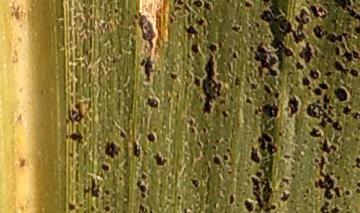tarspot: (259, 3, 310, 59), (200, 53, 222, 115), (313, 154, 336, 201), (252, 40, 279, 77), (249, 175, 274, 213), (137, 9, 155, 52), (297, 40, 319, 66), (332, 1, 360, 21), (65, 123, 86, 146), (294, 7, 312, 32), (139, 55, 155, 83), (68, 102, 85, 126), (103, 139, 122, 160), (286, 96, 301, 119), (331, 84, 349, 103), (261, 101, 280, 119), (308, 4, 328, 21), (256, 131, 273, 151), (306, 103, 323, 120), (332, 59, 350, 75), (151, 150, 169, 166), (318, 137, 332, 155), (311, 23, 325, 40), (325, 31, 343, 44), (90, 176, 100, 199), (248, 144, 260, 163), (277, 188, 292, 203), (145, 94, 160, 109), (307, 66, 321, 81), (331, 117, 344, 133), (242, 197, 255, 213), (211, 152, 224, 168), (182, 24, 200, 35), (131, 140, 142, 158), (308, 126, 323, 139), (265, 142, 278, 156), (322, 93, 332, 110), (206, 41, 219, 54), (341, 50, 353, 64), (189, 41, 201, 55), (145, 130, 157, 144), (333, 185, 344, 199), (319, 199, 330, 213), (299, 75, 311, 87), (262, 83, 274, 95), (347, 66, 358, 79), (311, 86, 323, 97), (293, 59, 305, 70), (189, 177, 201, 188), (201, 1, 213, 12), (99, 161, 110, 173), (317, 81, 330, 91), (82, 185, 91, 199), (137, 202, 148, 213), (117, 128, 128, 139), (66, 200, 77, 211), (341, 103, 351, 115), (194, 16, 206, 26), (192, 75, 201, 88), (241, 1, 255, 9), (226, 60, 233, 76), (330, 203, 341, 213), (280, 176, 291, 186), (230, 23, 241, 33), (184, 3, 194, 14), (168, 70, 178, 81), (351, 48, 360, 60), (327, 104, 335, 117), (227, 192, 235, 205), (249, 82, 259, 92), (253, 170, 264, 179), (252, 107, 263, 116), (243, 96, 254, 105), (233, 75, 242, 86), (333, 45, 341, 57), (185, 13, 192, 26), (318, 118, 327, 128), (272, 90, 281, 100), (323, 70, 334, 78), (329, 143, 338, 152), (139, 171, 148, 180), (103, 204, 112, 213), (112, 6, 121, 15), (350, 111, 360, 119), (222, 152, 230, 162), (221, 109, 229, 119), (167, 15, 175, 25), (139, 183, 147, 193), (287, 85, 294, 96), (192, 1, 203, 8), (202, 23, 207, 38), (352, 24, 360, 33), (194, 139, 202, 148), (188, 125, 196, 134), (110, 56, 118, 65), (102, 188, 111, 196), (321, 109, 328, 119), (261, 1, 272, 7), (263, 70, 271, 78), (248, 44, 256, 52), (231, 51, 239, 59), (344, 188, 351, 197), (314, 98, 323, 105), (244, 75, 251, 84), (228, 94, 235, 103), (197, 95, 204, 104), (185, 51, 192, 60), (187, 117, 194, 126), (355, 156, 360, 168), (281, 153, 291, 159), (339, 42, 346, 50), (326, 117, 334, 124), (306, 84, 314, 91), (322, 1, 330, 8), (282, 105, 290, 112), (278, 143, 285, 151), (224, 146, 232, 153), (218, 98, 226, 105), (173, 5, 181, 12), (66, 151, 74, 158), (194, 7, 200, 16), (89, 203, 95, 212), (345, 26, 352, 33), (322, 29, 329, 36), (313, 157, 320, 164), (335, 174, 342, 181), (309, 146, 316, 153), (284, 117, 291, 124), (288, 198, 295, 205), (269, 203, 276, 210), (260, 164, 267, 171), (210, 143, 217, 150), (174, 93, 181, 100), (166, 95, 173, 102), (142, 149, 149, 156), (345, 202, 351, 210), (302, 137, 308, 145), (243, 45, 249, 53), (201, 126, 207, 134), (156, 68, 162, 76), (218, 40, 223, 49), (354, 187, 360, 194), (350, 163, 356, 170), (353, 136, 360, 142), (342, 199, 348, 206), (346, 33, 352, 40), (332, 159, 338, 166), (290, 171, 296, 178), (262, 33, 269, 39), (249, 32, 255, 39), (243, 32, 249, 39), (247, 24, 253, 31), (253, 22, 260, 28), (286, 70, 293, 76), (234, 201, 240, 208), (235, 166, 241, 173), (226, 169, 233, 175), (131, 20, 137, 27), (175, 194, 182, 200), (63, 118, 70, 124), (183, 205, 188, 213), (149, 205, 154, 213), (304, 187, 310, 193), (320, 54, 326, 60), (277, 131, 283, 137), (263, 156, 269, 162), (241, 190, 247, 196), (194, 187, 200, 193), (214, 138, 220, 144), (204, 160, 210, 166), (186, 1, 192, 7), (139, 192, 145, 198), (341, 31, 346, 38), (257, 28, 262, 35), (220, 139, 225, 146), (177, 1, 184, 6), (133, 12, 138, 19), (78, 202, 85, 207), (304, 1, 312, 5), (345, 84, 351, 89), (346, 42, 351, 48), (301, 193, 307, 198), (259, 79, 265, 84), (248, 71, 253, 77), (244, 167, 249, 173), (225, 137, 230, 143), (193, 167, 198, 173), (136, 180, 141, 186), (117, 176, 123, 181), (356, 180, 360, 187), (228, 46, 232, 53), (205, 138, 209, 145), (326, 55, 331, 60), (232, 105, 237, 110), (75, 208, 80, 213), (268, 33, 272, 39), (335, 156, 339, 161), (172, 1, 177, 5), (340, 155, 343, 159)
